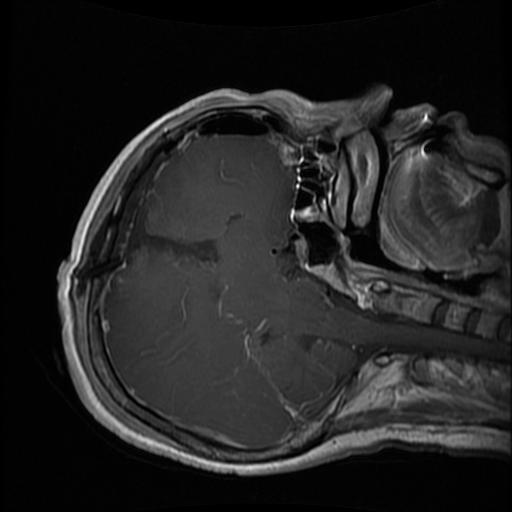glioma: (123, 189, 218, 275)
